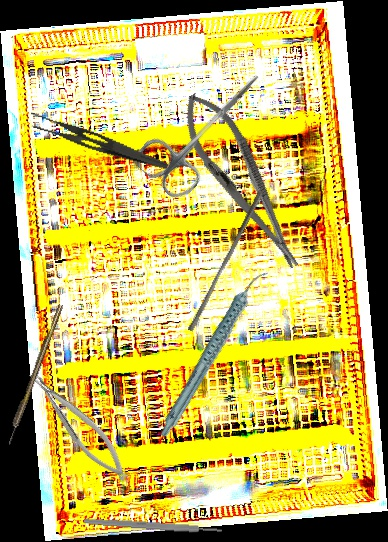Dressing Forceps: (25, 109, 173, 171)
Handpiece: (128, 266, 300, 441)
Hook Surgical: (4, 303, 65, 446)
Iris Scissors: (130, 51, 280, 205)
Needle Holder: (168, 82, 316, 281), (23, 360, 136, 490)
Pusher: (187, 187, 264, 334)
Scalpel Handle: (83, 517, 223, 535)
